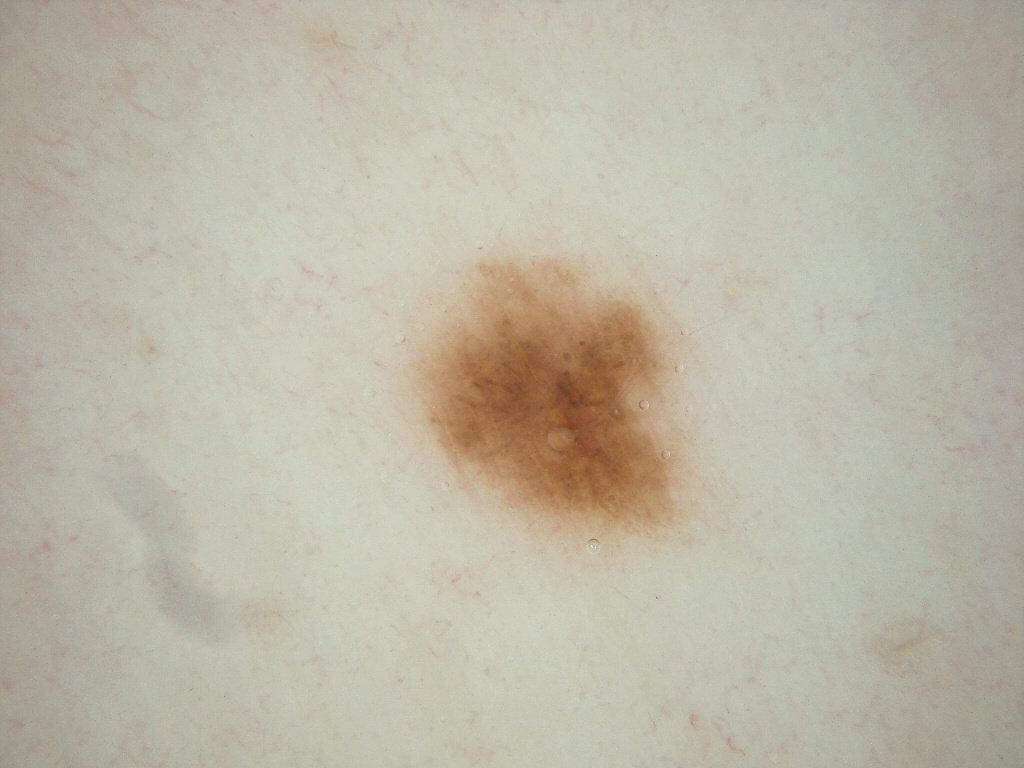Detected Lesion: (414, 240, 725, 550)
